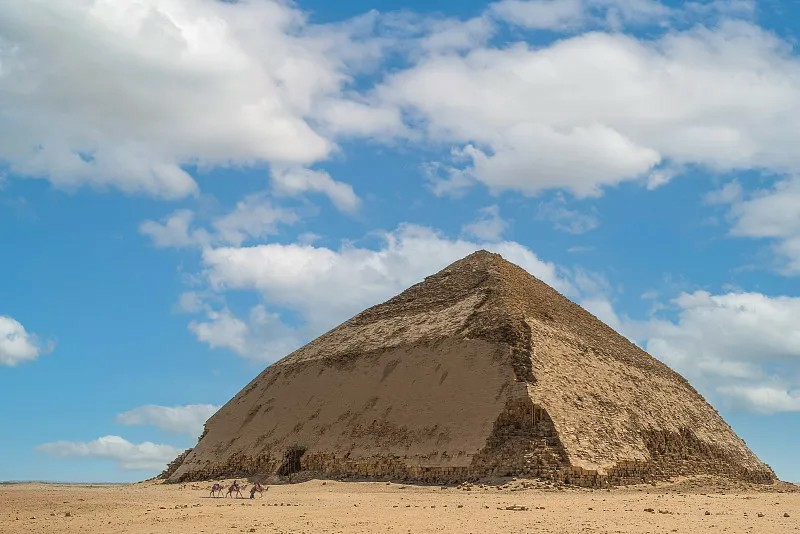Pyramid: (167, 251, 784, 487)
